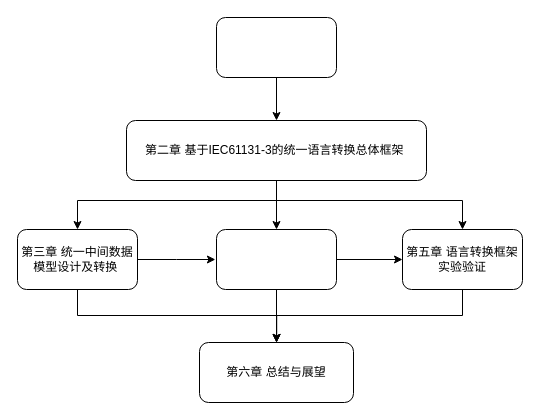
The diagram is 540 pixels wide and 420 high, and some of its shapes have lost their labels. The centre of each missing label's shape, as x and y in pixels:
"第一章 绪论" belongs at point 276,47.
"第四章 图形化语言识别及转换" belongs at point 276,259.
